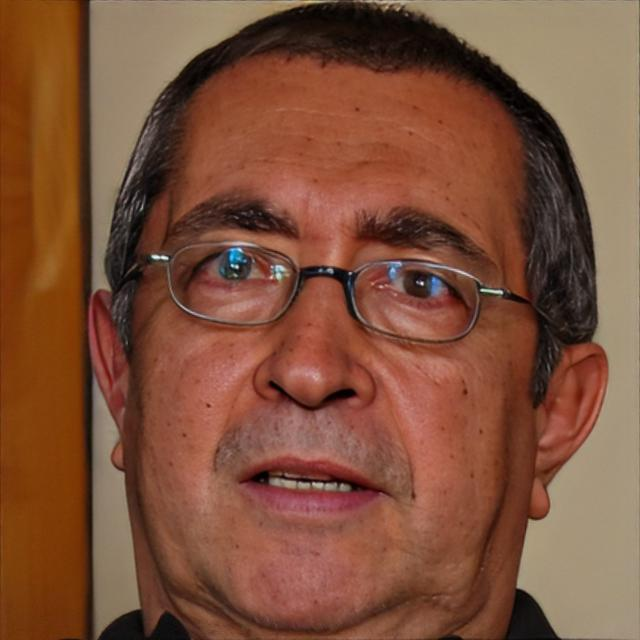surprise: (126, 49, 538, 636)
